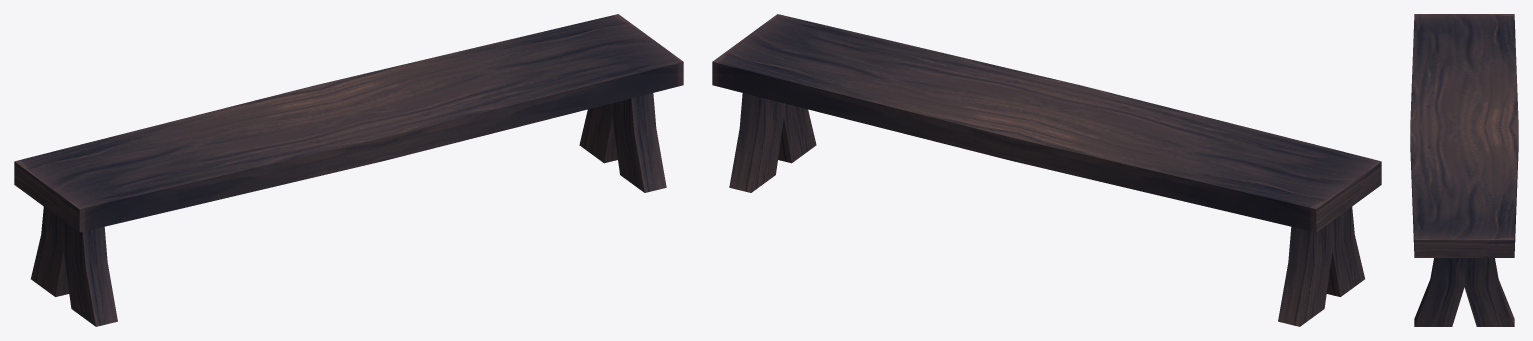
Rendered from Bench_1x2.fbx.
The picture shows the model from 3 angles, left to right: view 1: azimuth 30°, elevation 25°; view 2: azimuth 150°, elevation 25°; view 3: azimuth 270°, elevation 25°; orthographic projection. The views are drawn at different scales.
Parts seen in each view (by area): view 1: Bench_1x2; view 2: Bench_1x2; view 3: Bench_1x2.
Part boxes in pixels (x1,y1,x2,y2): Bench_1x2: [14, 14, 683, 326]; Bench_1x2: [712, 14, 1381, 326]; Bench_1x2: [1410, 14, 1518, 326].
Bounding box in the file's own units: 0.6319 × 0.1217 × 0.1282.
